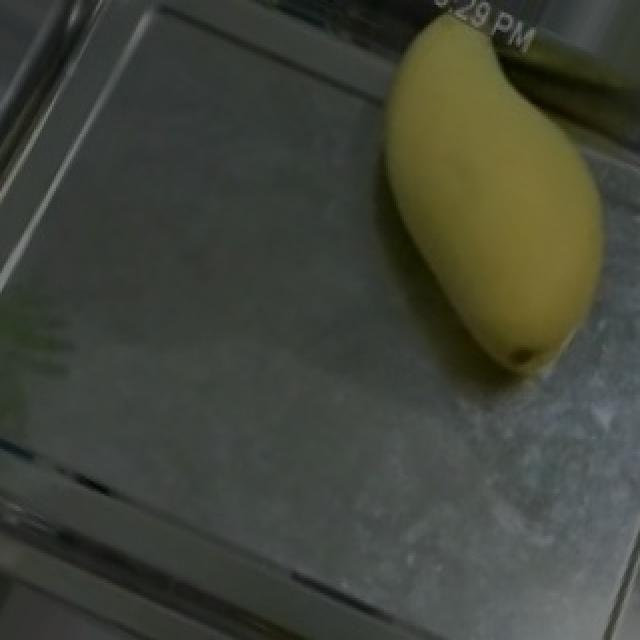fruit: (322, 7, 640, 392)
